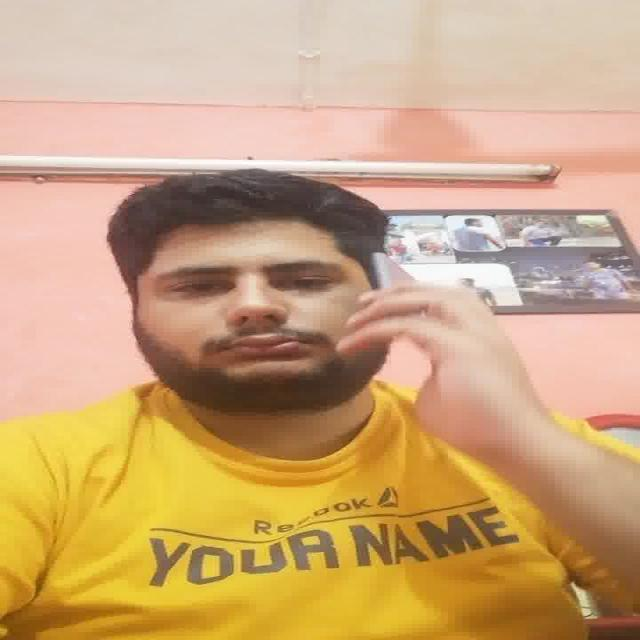Phone: (374, 252, 416, 300)
